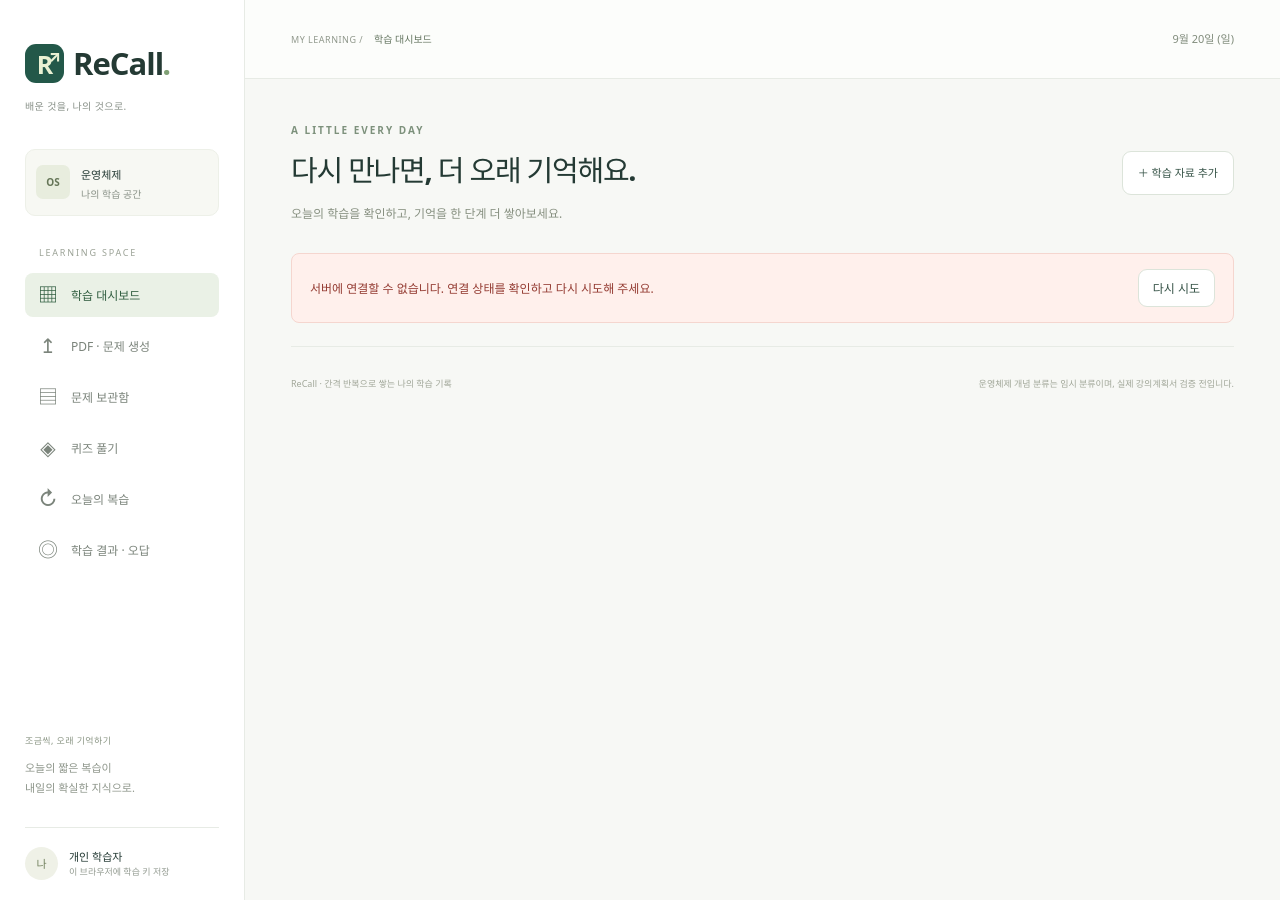
Test case: ReCall real API workflows › shows network errors and retries instead of displaying fabricated dashboard data
The width and height of the screenshot is (1280, 900).
Expected: the message "서버에 연결할 수 없습니다. 연결 상태를 확인하고 다시 시도해 주세요. 다시 시도" is shown, 291,253 -> 1234,323
Expected: the message shows "서버에 연결할 수 없습니다.", 310,280 -> 654,297
Click the button "다시 시도" at (1176, 288), box 1138,269 -> 1215,307
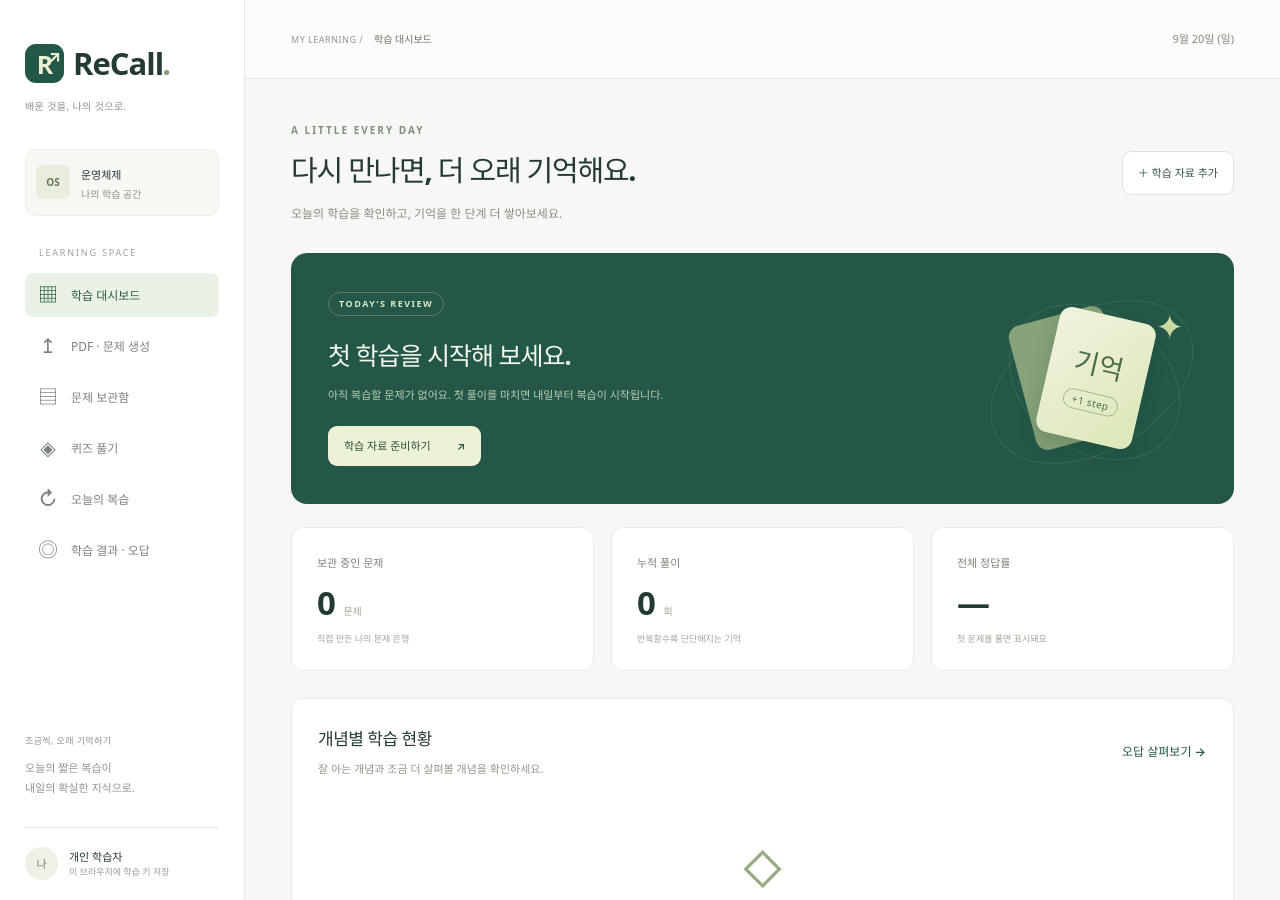
Expected: the text "보관 중인 문제" is shown, 317,555 -> 384,570
